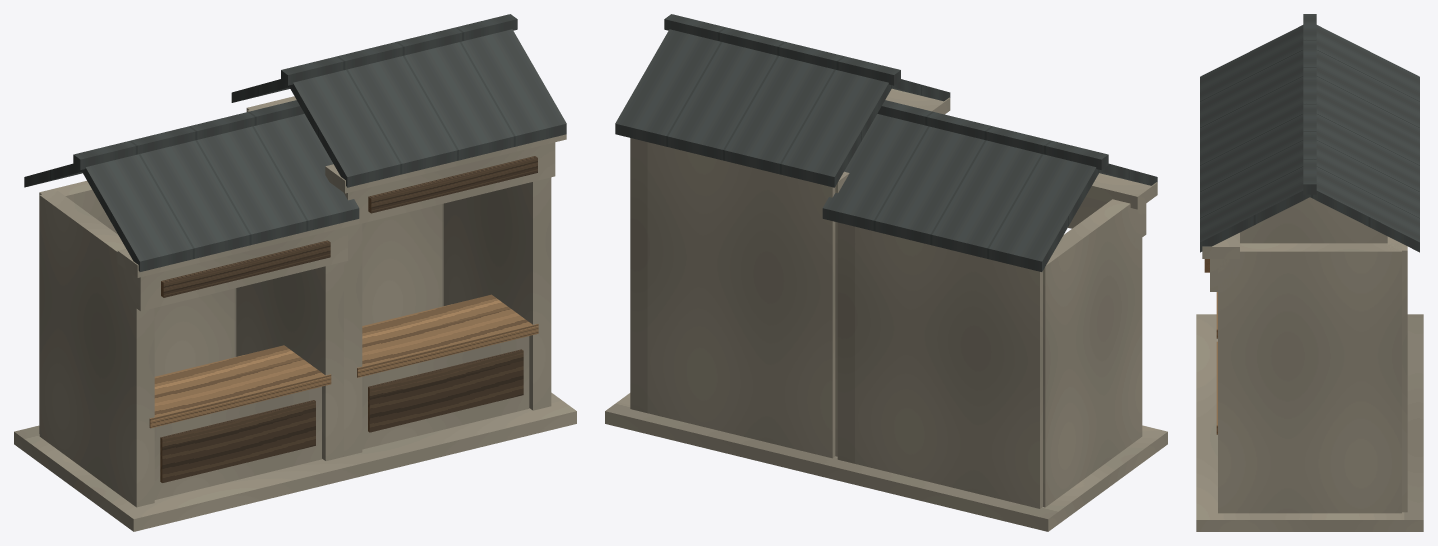
The picture shows the model from 3 angles, left to right: view 1: azimuth 30°, elevation 25°; view 2: azimuth 150°, elevation 25°; view 3: azimuth 270°, elevation 25°; orthographic projection. The views are drawn at different scales.
Parts seen in each view (by area): view 1: monrovia; view 2: monrovia; view 3: monrovia.
Part boxes in pixels (left/top/right/bottom): monrovia: left=14, top=14, right=576, bottom=531; monrovia: left=605, top=14, right=1167, bottom=531; monrovia: left=1196, top=14, right=1423, bottom=531.
Bounding box in the file's own units: 3.18 × 2.5 × 1.49.
1 material, 1 textured.
